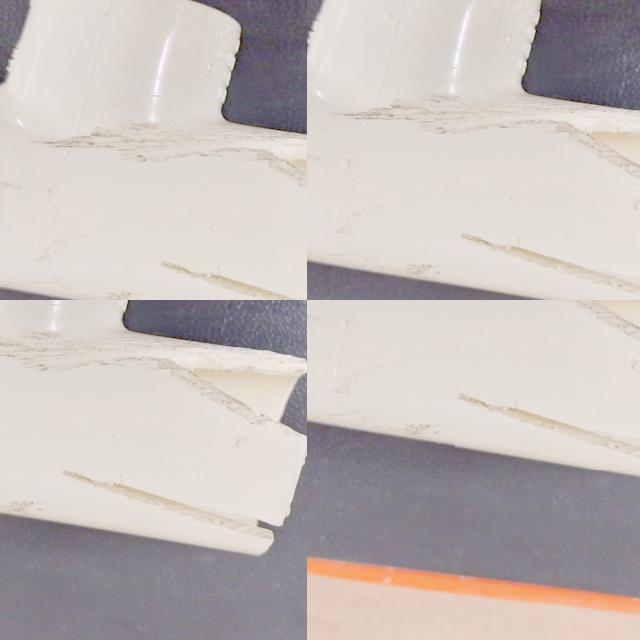Defective: (455, 394, 640, 470), (546, 300, 640, 363), (231, 308, 284, 358), (82, 367, 123, 406), (137, 359, 162, 382)
T Joint: (307, 300, 640, 490), (194, 300, 307, 424)
